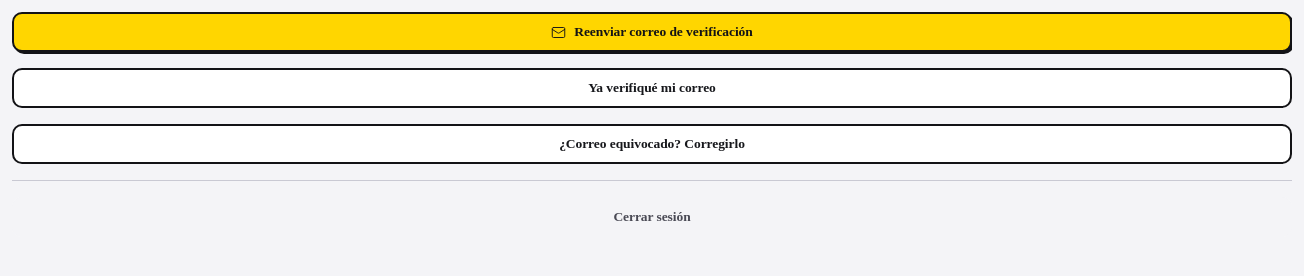
it: ActivationPage — the email screen › reports the outage without moving screens when checking status fails
Step 1. Click the button "Ya verifiqué mi correo" → click(652, 88), box [12, 68, 1292, 108]
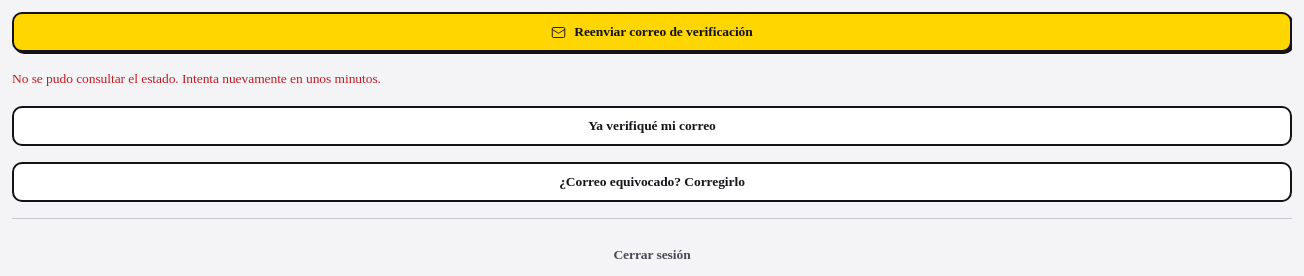
Expected: the button "Ya verifiqué mi correo" is shown, [12, 106, 1292, 146]
Now the message shows "No se pudo consultar el estado", box [12, 71, 381, 86]
